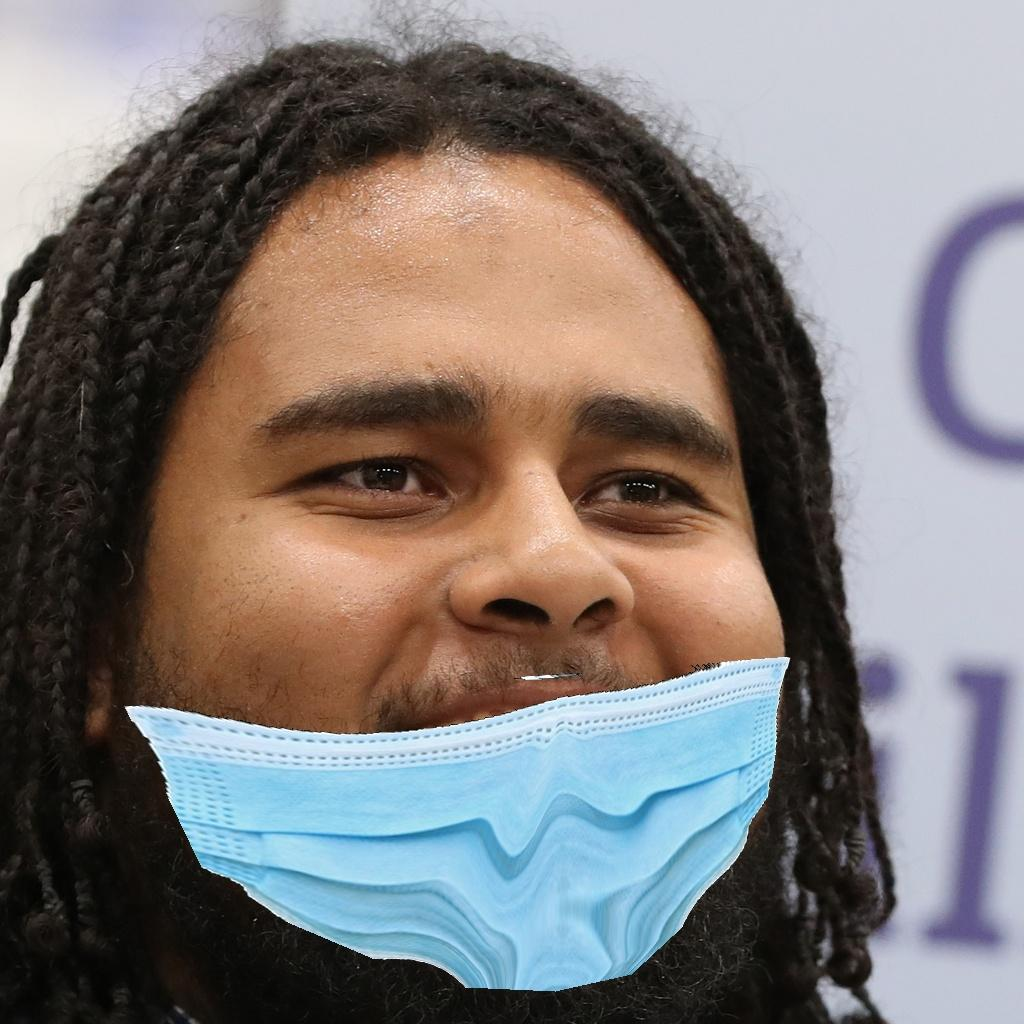Máscara Incorreta: (156, 247, 779, 969)
